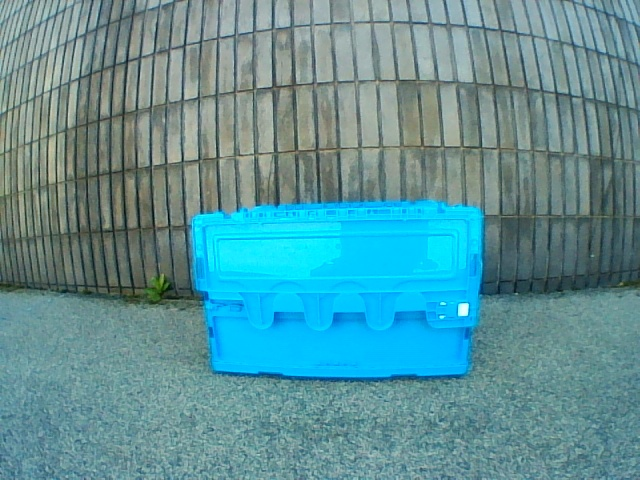blue_box: (190, 201, 483, 380)
